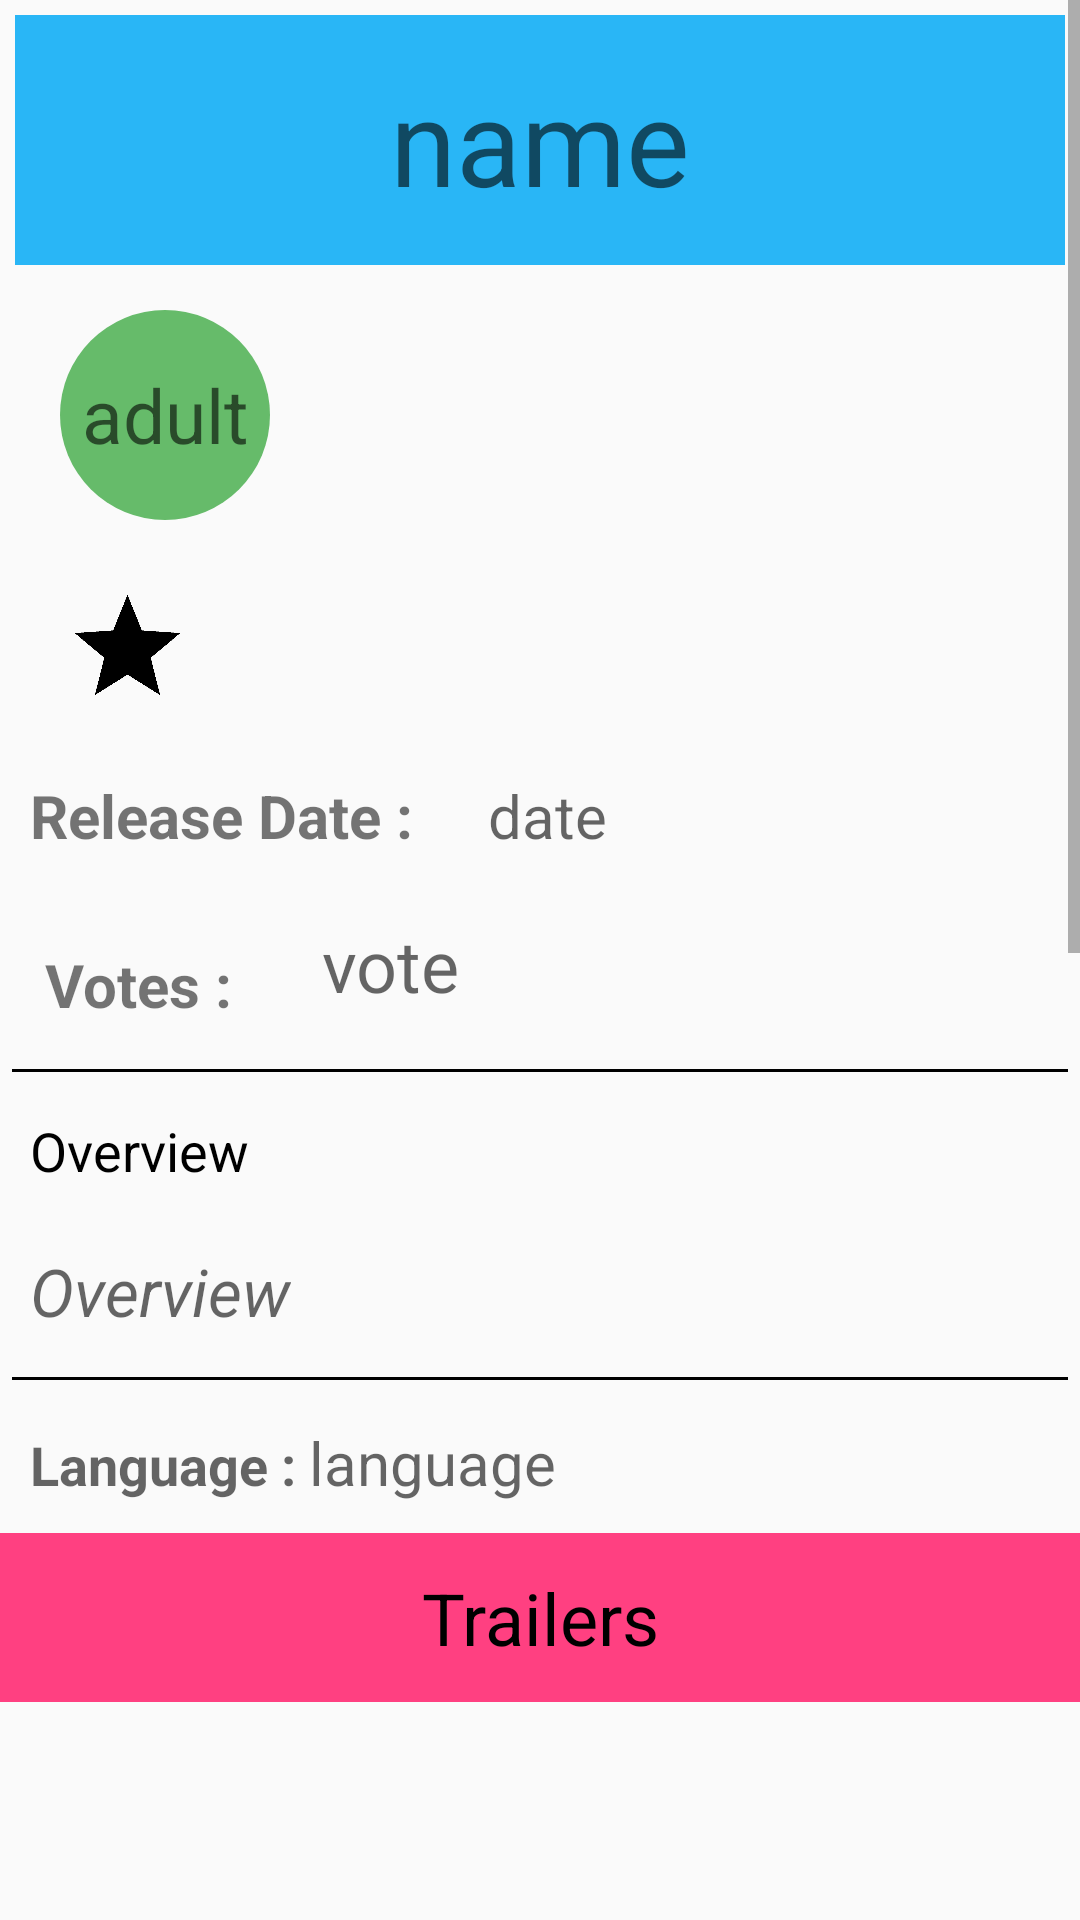

Where icons sit on this 1080px×1920px app screen, as (x1, y1, x2, y2):
favourite: (75, 595, 180, 695)
